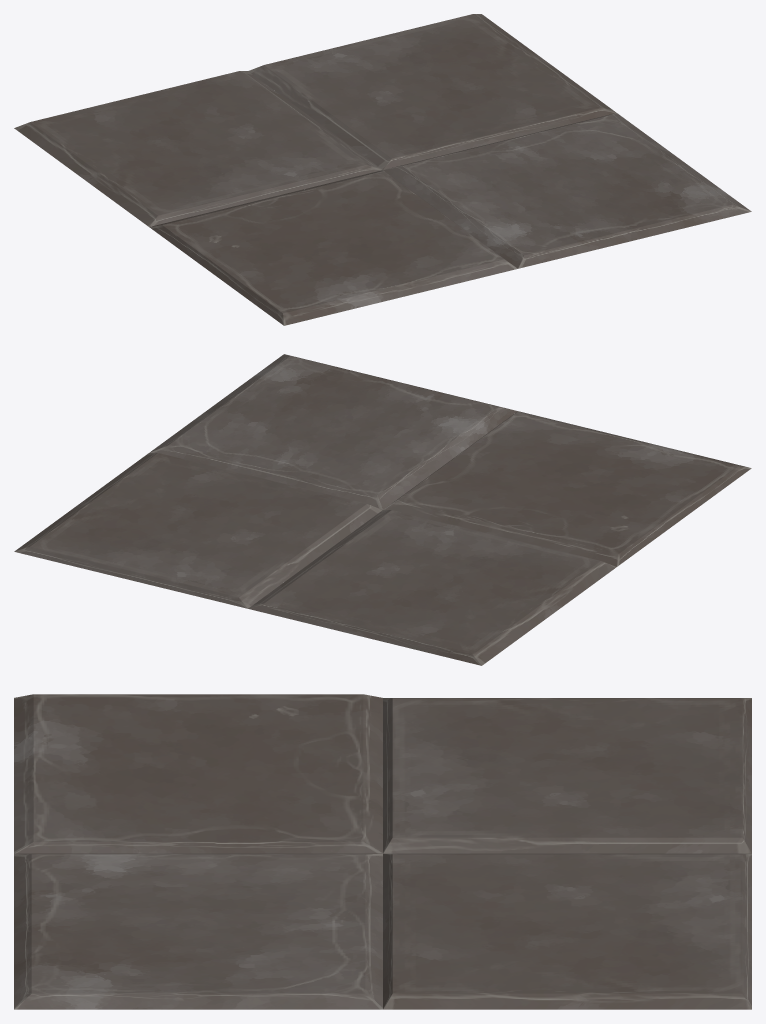
The model's file is Stone_Ceiling_Var1.fbx.
The picture shows the model from 3 angles, top to bottom: view 1: azimuth 30°, elevation 25°; view 2: azimuth 150°, elevation 25°; view 3: azimuth 270°, elevation 25°; orthographic projection. The views are drawn at different scales.
Parts seen in each view (by area): view 1: StoneTile_Row3_Col3__13_; view 2: StoneTile_Row3_Col3__13_; view 3: StoneTile_Row3_Col3__13_.
Boxes of the visible parts, box(x1,y1,x2,y2) form: StoneTile_Row3_Col3__13_: box(14, 14, 751, 325); StoneTile_Row3_Col3__13_: box(14, 354, 751, 665); StoneTile_Row3_Col3__13_: box(14, 694, 751, 1009).
Bounding box in the file's own units: 2 × 0.0232 × 2.
